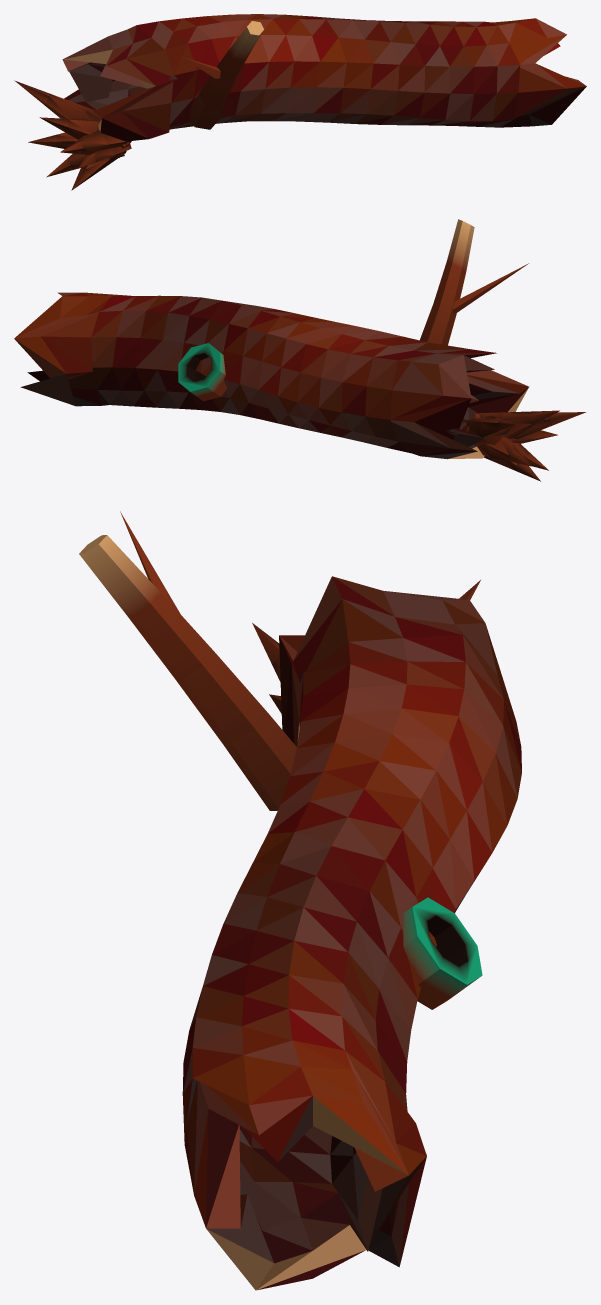
Rendered from pohon_tumbang_uprooted_redwood_813949.glb.
3 views of the same model, one above another, from view 1: azimuth 30°, elevation 25°; view 2: azimuth 150°, elevation 25°; view 3: azimuth 270°, elevation 25° (orthographic). The views are drawn at different scales.
Parts seen in each view (by area): view 1: Tunggul_Akar_Tumbang; view 2: Tunggul_Akar_Tumbang; view 3: Tunggul_Akar_Tumbang.
Boxes of the visible parts, x1,y1,x2,y2 form: Tunggul_Akar_Tumbang: (14,14,586,190); Tunggul_Akar_Tumbang: (14,219,586,481); Tunggul_Akar_Tumbang: (79,511,521,1290).
Bounding box in the file's own units: 4.99 × 1.97 × 1.85.
